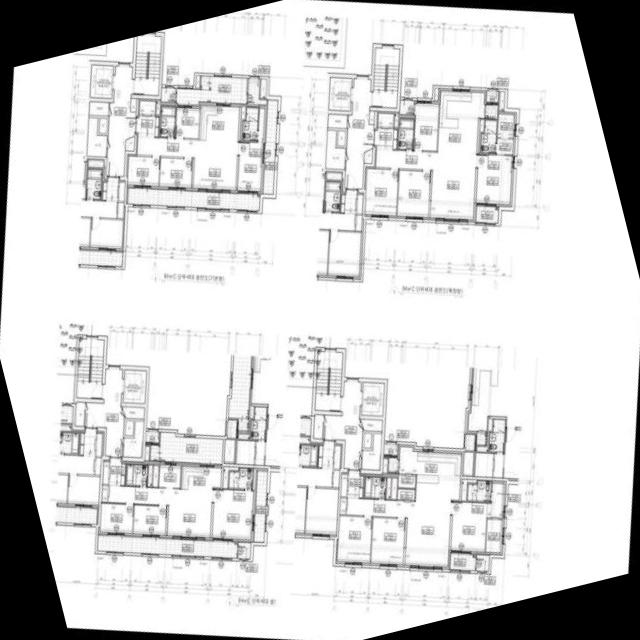background: (0, 0, 640, 640)
space_balconi: (96, 535, 236, 557), (127, 188, 259, 210), (175, 75, 246, 104), (158, 432, 222, 463), (262, 99, 277, 193), (253, 470, 267, 542), (449, 552, 475, 570), (475, 206, 497, 222)
space_bedroom: (237, 108, 264, 191), (211, 489, 253, 539), (449, 501, 486, 551), (475, 154, 511, 204), (336, 515, 371, 562), (370, 517, 404, 564), (396, 170, 430, 216), (364, 168, 397, 215), (413, 103, 438, 150), (126, 155, 159, 185), (132, 505, 165, 535), (99, 503, 132, 533), (159, 157, 191, 187), (174, 107, 199, 138)
space_dressroom: (485, 483, 503, 552), (496, 113, 514, 154)
space_elevator: (122, 369, 145, 403), (89, 64, 112, 98), (361, 382, 383, 415), (328, 77, 350, 110)
space_elevator_hall: (83, 368, 123, 456), (322, 381, 362, 468), (344, 78, 373, 188), (106, 65, 135, 175)
space_front: (373, 127, 397, 150), (135, 115, 158, 137), (108, 457, 124, 486), (347, 470, 363, 497)
space_kitchen: (437, 90, 484, 153), (398, 446, 460, 475), (198, 105, 239, 141), (180, 466, 221, 489)
space_living_room: (346, 474, 459, 566), (375, 149, 475, 219), (107, 485, 211, 537), (136, 136, 237, 189)
space_other: (86, 117, 106, 156), (325, 130, 344, 169), (122, 421, 142, 457), (361, 433, 381, 469), (158, 464, 180, 487), (460, 479, 476, 500), (222, 466, 237, 488), (88, 101, 108, 115), (121, 406, 143, 418), (360, 419, 382, 431), (327, 114, 346, 127), (74, 402, 84, 426), (397, 474, 415, 487), (475, 554, 488, 571), (313, 414, 322, 438), (139, 100, 154, 114), (399, 99, 413, 114), (237, 542, 250, 558), (377, 113, 393, 126), (239, 106, 245, 139), (477, 119, 483, 152), (160, 87, 174, 101), (396, 489, 414, 499), (485, 104, 497, 118), (149, 444, 159, 460), (387, 457, 397, 473), (340, 474, 347, 496), (363, 148, 372, 163), (102, 461, 108, 483), (152, 465, 158, 486), (390, 477, 396, 498), (124, 420, 132, 435), (125, 136, 133, 150), (363, 433, 371, 447), (98, 118, 106, 132), (147, 464, 152, 486), (259, 79, 265, 97), (385, 477, 390, 498), (337, 130, 344, 145), (101, 485, 107, 501), (339, 498, 345, 514), (499, 91, 504, 110), (368, 110, 374, 124), (382, 458, 387, 472), (130, 98, 135, 111), (144, 446, 148, 460), (155, 101, 159, 114), (393, 113, 397, 126), (433, 88, 437, 100), (195, 75, 199, 87)
space_outdoor_room: (246, 78, 266, 104), (145, 430, 158, 442), (383, 443, 397, 454), (486, 90, 497, 102)
space_staircase: (371, 47, 399, 107), (314, 351, 341, 411), (76, 338, 103, 398), (133, 35, 160, 95)
space_toilet: (480, 120, 496, 152), (466, 480, 490, 501), (397, 118, 413, 149), (242, 107, 257, 140), (363, 476, 385, 498), (228, 468, 252, 488), (125, 464, 147, 485), (159, 106, 174, 136)
